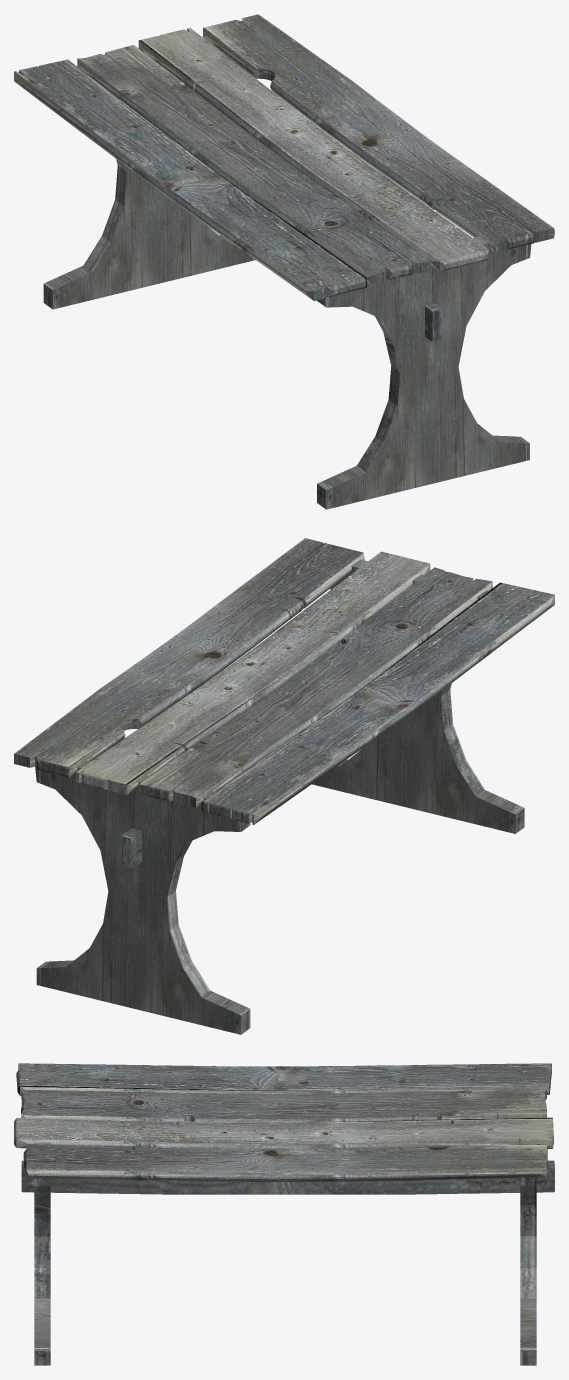
The model's file is bench.dae.
3 renders of one model, top to bottom at view 1: azimuth 30°, elevation 25°; view 2: azimuth 150°, elevation 25°; view 3: azimuth 270°, elevation 25°, orthographic. The views are drawn at different scales.
Visible parts, largest first — view 1: ID160, ID111, ID132, ID140, ID124, ID173, ID181; view 2: ID173, ID111, ID132, ID140, ID124, ID160, ID181; view 3: ID111, ID132, ID140, ID124, ID181, ID160, ID173.
Boxes of the visible parts, left/top/right/bottom form: ID160: left=317, top=236, right=531, bottom=509; ID111: left=203, top=14, right=554, bottom=252; ID132: left=77, top=45, right=430, bottom=285; ID140: left=14, top=59, right=366, bottom=300; ID124: left=138, top=28, right=489, bottom=271; ID173: left=43, top=36, right=255, bottom=309; ID181: left=425, top=304, right=441, bottom=341; ID173: left=35, top=760, right=250, bottom=1034; ID111: left=14, top=538, right=364, bottom=777; ID132: left=139, top=567, right=492, bottom=808; ID140: left=202, top=582, right=554, bottom=824; ID124: left=75, top=551, right=430, bottom=794; ID160: left=312, top=559, right=524, bottom=833; ID181: left=122, top=828, right=141, bottom=868; ID111: left=23, top=1144, right=547, bottom=1181; ID132: left=21, top=1089, right=546, bottom=1123; ID140: left=16, top=1063, right=551, bottom=1095; ID124: left=14, top=1117, right=553, bottom=1149; ID181: left=21, top=1160, right=554, bottom=1194; ID160: left=34, top=1118, right=50, bottom=1365; ID173: left=520, top=1117, right=536, bottom=1365.
Bounding box in the file's own units: 0.9462 × 0.8328 × 1.99.
Materials: 3 (3 with a texture image).
